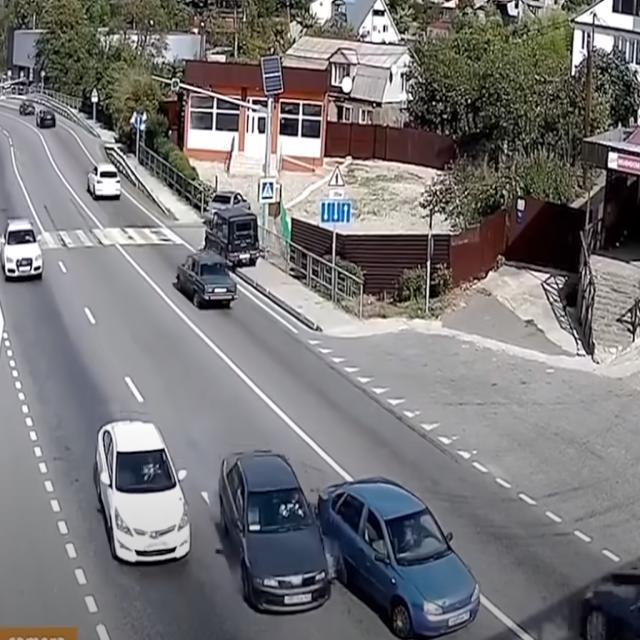accident: (216, 453, 479, 639)
non-accident: (176, 190, 260, 308), (176, 212, 260, 304), (204, 189, 258, 267), (17, 98, 58, 130)
